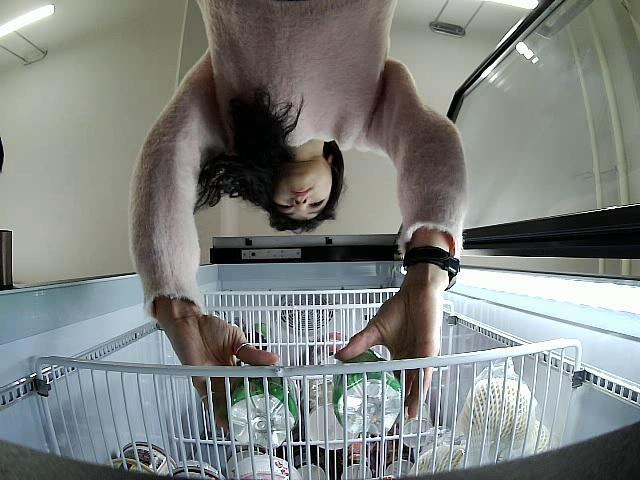18_trevi: (329, 346, 404, 438), (225, 376, 298, 452)
